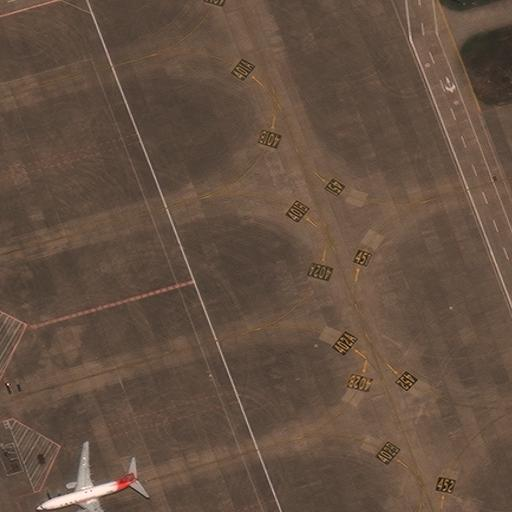Medium Civil Transport: (35, 444, 136, 511)
